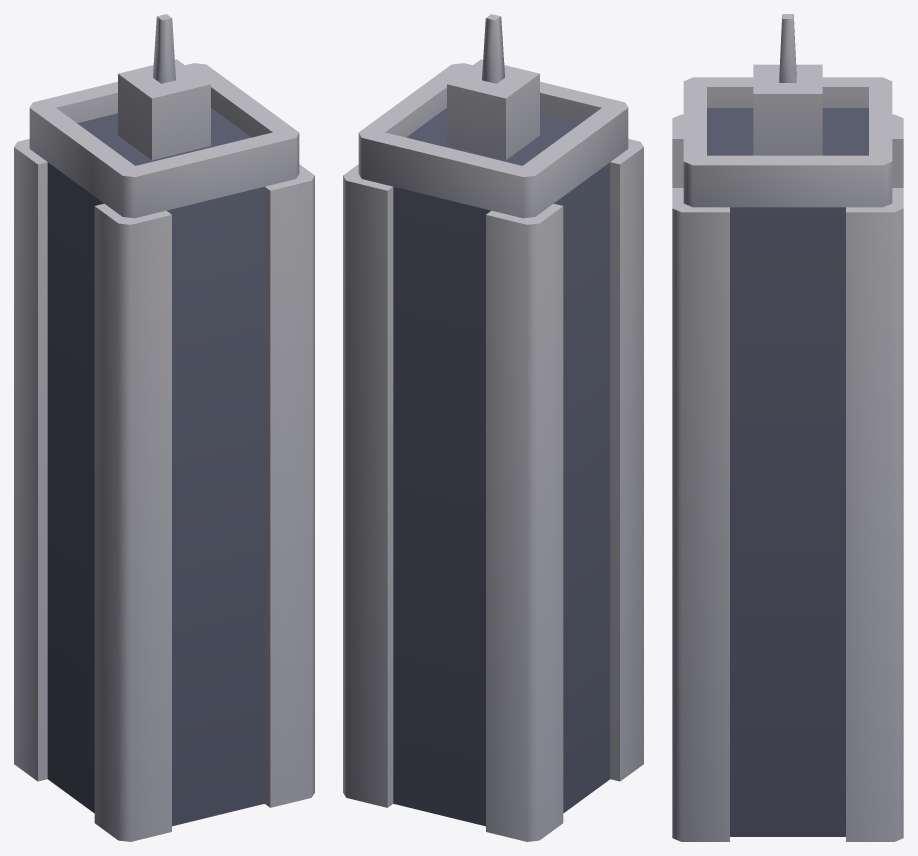
The model's file is low-detail-building-l.glb.
3 views of the same model, side by side, from view 1: azimuth 30°, elevation 25°; view 2: azimuth 150°, elevation 25°; view 3: azimuth 270°, elevation 25° (orthographic). The views are drawn at different scales.
Visible parts, largest first — view 1: low-detail-building-l; view 2: low-detail-building-l; view 3: low-detail-building-l.
Part boxes in pixels (<box>): low-detail-building-l: <box>14,14,314,841</box>; low-detail-building-l: <box>343,14,643,841</box>; low-detail-building-l: <box>672,14,903,841</box>.
Size of the model in its own units: 0.5 by 1.85 by 0.5.
